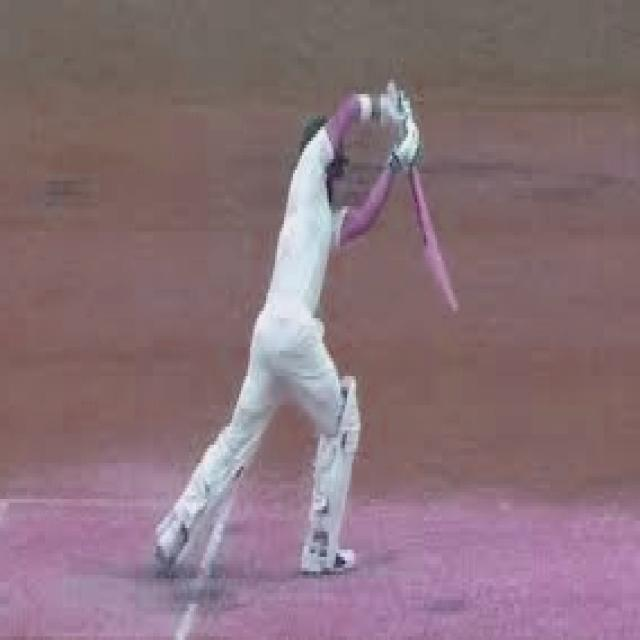bat: (411, 163, 469, 312)
